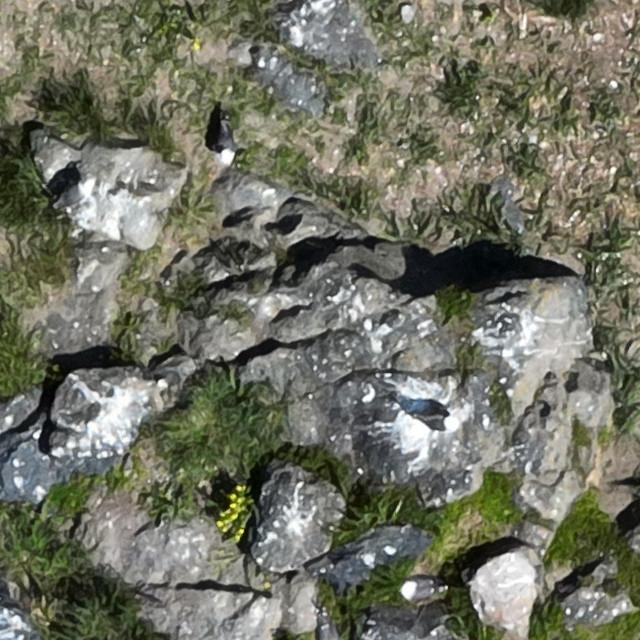umineko: (56, 179, 96, 213), (416, 411, 458, 433), (217, 124, 236, 162), (401, 580, 434, 600)
